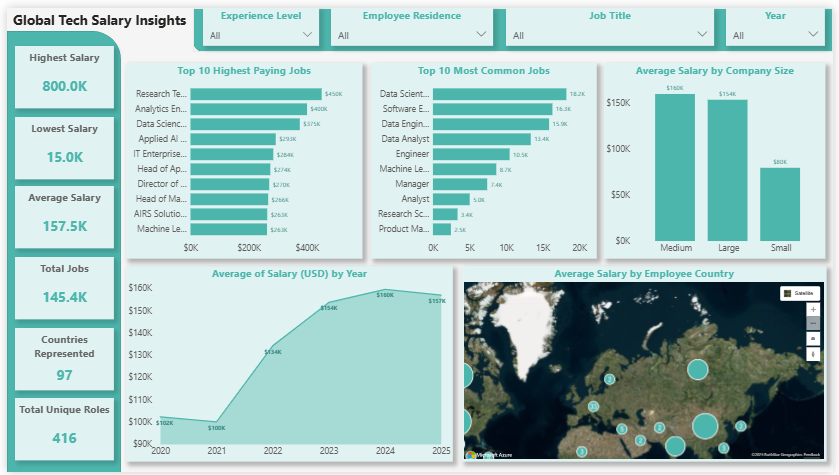

Layout of this report page (visuals, bound fields, positions):
{"tool":"powerbi","page":{"name":"Global Salary Insights","canvas":[1920,1080],"ordinal":0},"visuals":[{"type":"shape","box":[0,52.5,265,1027.5],"z":0},{"type":"textbox","box":[0,0,432.6,53.5],"z":1000},{"type":"card","title":"Highest Salary ","fields":{"Values":["salaries.Max_Salary"]},"box":[17.5,87.5,230,145],"z":2000},{"type":"card","title":"Lowest Salary","fields":{"Values":["salaries.Min_Salary"]},"box":[17.5,252.5,230,145],"z":3000},{"type":"card","title":"Average Salary","fields":{"Values":["salaries.Avg_Salary"]},"box":[17.5,415,230,145],"z":4000},{"type":"card","title":"Countries Represented","fields":{"Values":["salaries.Total_Countries"]},"box":[17.5,745,230,145],"z":5000},{"type":"card","title":"Total Unique Roles","fields":{"Values":["salaries.Total_Unique_Roles"]},"box":[17.5,907.5,230,145],"z":6000},{"type":"card","title":"Total Jobs ","fields":{"Values":["salaries.Total_Jobs"]},"box":[17.5,580,230,145],"z":7000},{"type":"shape","box":[432.6,0,1488.4,102.3],"z":8000},{"type":"slicer","title":"Year","fields":{"Values":["salaries.work_year"]},"box":[1672.1,0,230.2,88.4],"z":9000},{"type":"slicer","title":"Experience Level","fields":{"Values":["salaries.experience_level"]},"box":[455.8,0,269.8,88.4],"z":10000},{"type":"slicer","title":"Job Title","fields":{"Values":["salaries.job_title"]},"box":[1160.5,0,483.7,88.4],"z":11000},{"type":"slicer","title":"Employee Residence","fields":{"Values":["salaries.employee_residence"]},"box":[753.5,0,376.7,88.4],"z":12000},{"type":"lineChart","title":"Average of Salary (USD) by Year","fields":{"Y":["Avg(salaries.salary_in_usd)"],"Category":["salaries.work_year"]},"box":[277.5,600,760,455],"z":13000},{"type":"barChart","title":"Top 10 Most Common Jobs","fields":{"Category":["salaries.job_title"],"Y":["CountNonNull(salaries.job_title)"]},"box":[847.5,127.5,525,455],"z":14000},{"type":"barChart","title":"Top 10 Highest Paying Jobs","fields":{"Y":["Avg(salaries.salary_in_usd)"],"Category":["salaries.job_title"]},"box":[277.5,127.5,550,455],"z":15000},{"type":"azureMap","title":"Average Salary by Employee Country","fields":{"Category":["salaries.employee_residence"],"Size":["Avg(salaries.salary_in_usd)"]},"box":[1057.5,600,847.5,455],"z":16000},{"type":"columnChart","title":"Average Salary by Company Size","fields":{"Category":["salaries.company_size"],"Y":["Avg(salaries.salary_in_usd)"]},"box":[1387.5,127.5,515,455],"z":17000}]}

Visuals, with their boxes in screenshot pixels (x1, y1, x2, y2), scaled from the page's 1920x1080 canvas onto the 839x475 screenshot:
shape: bbox(0, 23, 116, 474)
textbox: bbox(0, 0, 189, 24)
"Highest Salary " card: bbox(8, 38, 108, 102)
"Lowest Salary" card: bbox(8, 111, 108, 175)
"Average Salary" card: bbox(8, 183, 108, 246)
"Countries Represented" card: bbox(8, 328, 108, 391)
"Total Unique Roles" card: bbox(8, 399, 108, 463)
"Total Jobs " card: bbox(8, 255, 108, 319)
shape: bbox(189, 0, 838, 45)
"Year" slicer: bbox(731, 0, 831, 39)
"Experience Level" slicer: bbox(199, 0, 317, 39)
"Job Title" slicer: bbox(507, 0, 718, 39)
"Employee Residence" slicer: bbox(329, 0, 494, 39)
"Average of Salary (USD) by Year" lineChart: bbox(121, 264, 453, 464)
"Top 10 Most Common Jobs" barChart: bbox(370, 56, 600, 256)
"Top 10 Highest Paying Jobs" barChart: bbox(121, 56, 362, 256)
"Average Salary by Employee Country" azureMap: bbox(462, 264, 832, 464)
"Average Salary by Company Size" columnChart: bbox(606, 56, 831, 256)
